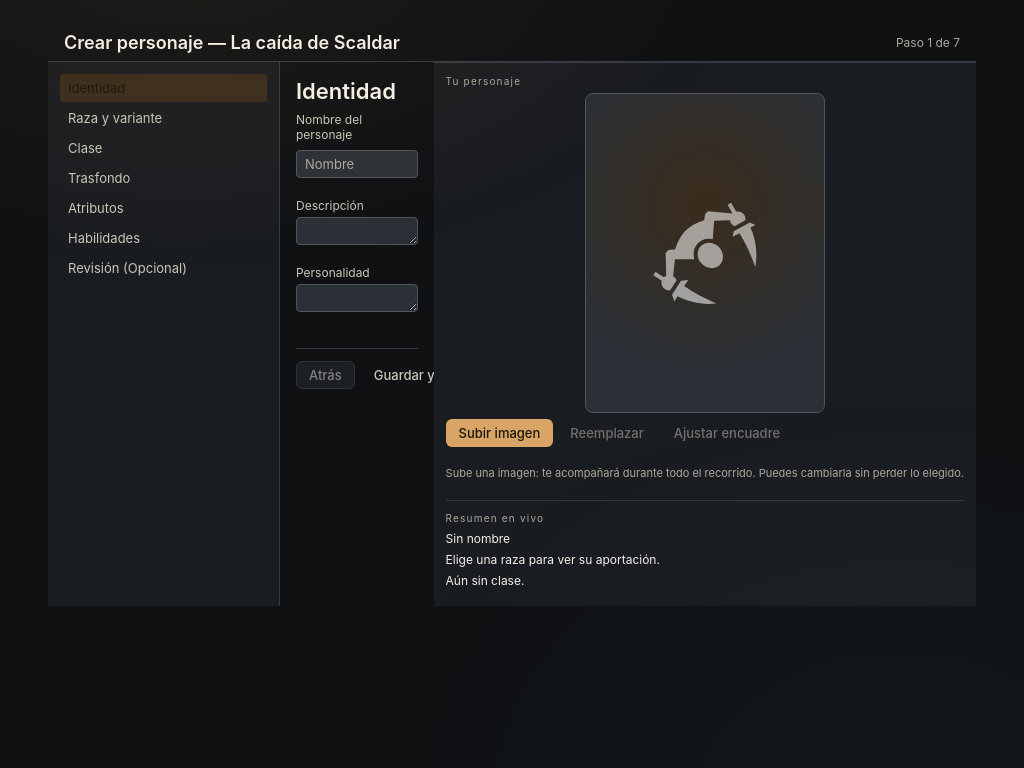
Creador de personajes real (PMB-3.5) › renderiza los pasos del blueprint y elige contenido con variantes
Click the button "Raza y variante" at {"x": 164, "y": 118}, box top-left (60, 104), bottom-right (267, 132)
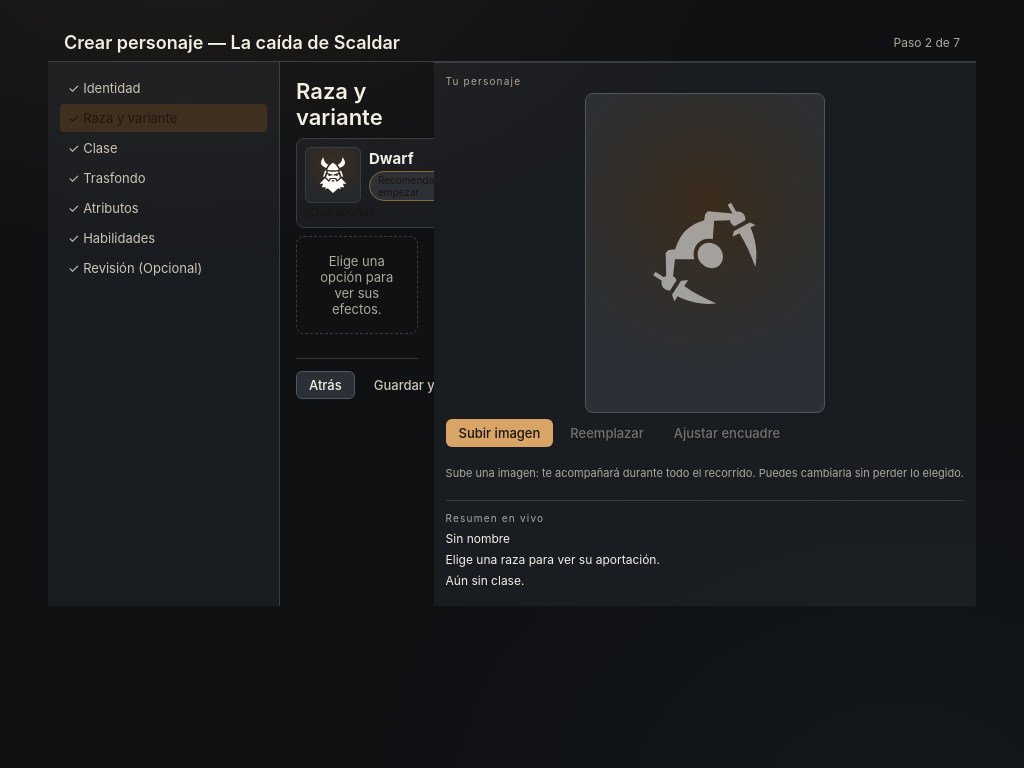
Now the button "Dwarf Recomendado para empezar" is shown, box top-left (305, 147), bottom-right (434, 203)
Click the button "Dwarf Recomendado para empezar" at {"x": 406, "y": 175}, box top-left (305, 147), bottom-right (507, 203)
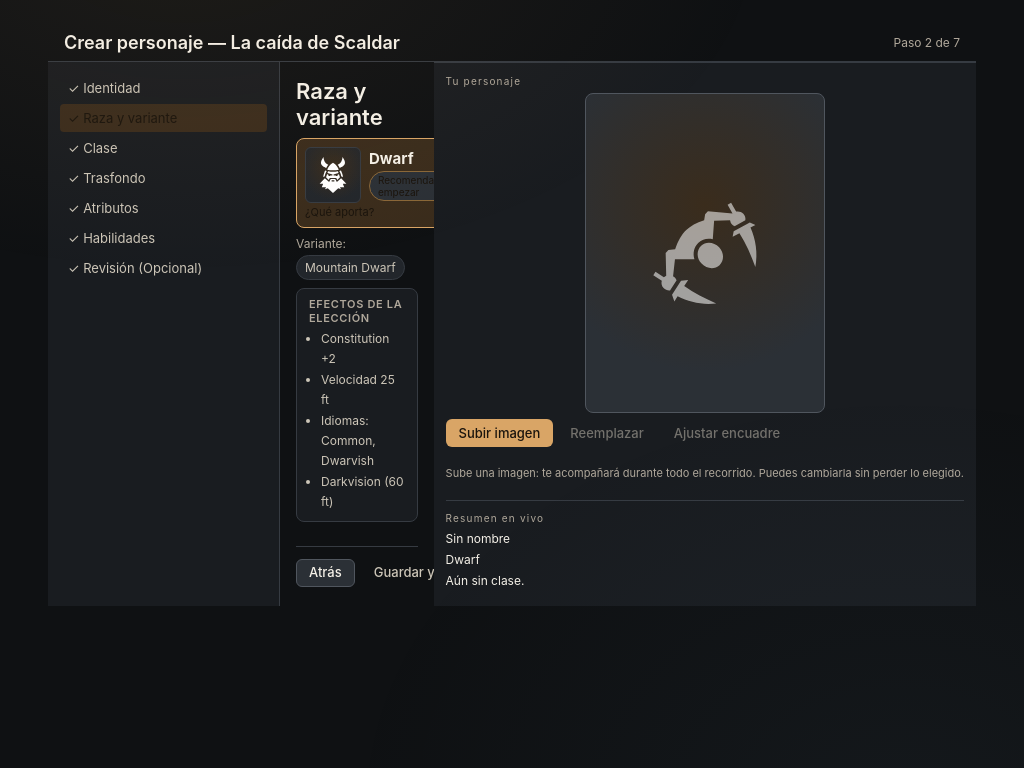
Now the button "Mountain Dwarf" is shown, box top-left (296, 255), bottom-right (405, 280)
Now the list item "Constitution +2" is shown, box top-left (321, 331), bottom-right (389, 366)
Now the list item "Darkvision (60 ft)" is shown, box top-left (321, 472), bottom-right (405, 512)
